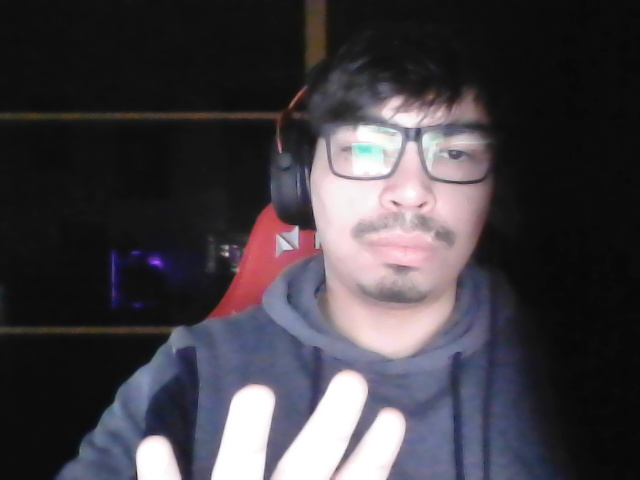four: (124, 367, 449, 480)
